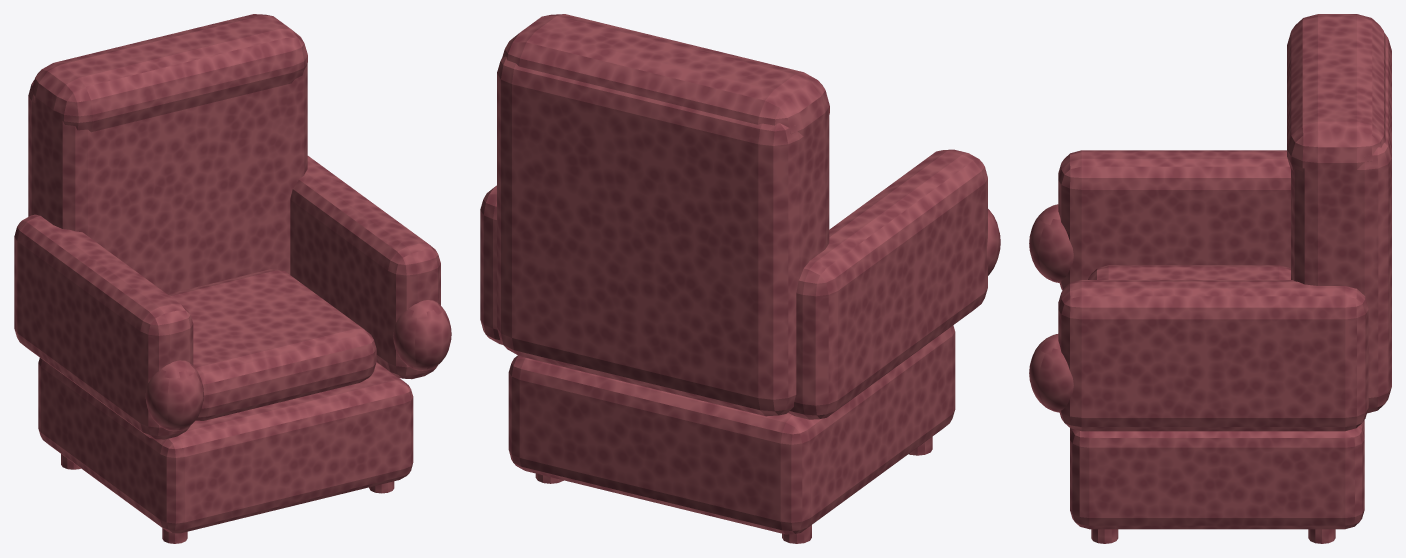
The model's file is FUR_Armchair.fbx.
The picture shows the model from 3 angles, left to right: view 1: azimuth 30°, elevation 25°; view 2: azimuth 150°, elevation 25°; view 3: azimuth 270°, elevation 25°; orthographic projection. The views are drawn at different scales.
Parts seen in each view (by area): view 1: Armchair_Body, Armchair_Cushion; view 2: Armchair_Body; view 3: Armchair_Body, Armchair_Cushion.
Part boxes in pixels (box(x1,y1,x2,y2)): Armchair_Body: box(14, 14, 451, 543); Armchair_Cushion: box(168, 269, 376, 420); Armchair_Body: box(480, 14, 1000, 543); Armchair_Body: box(1029, 14, 1391, 543); Armchair_Cushion: box(1088, 265, 1290, 279).
Bounding box in the file's own units: 95.15 × 118 × 93.5.
